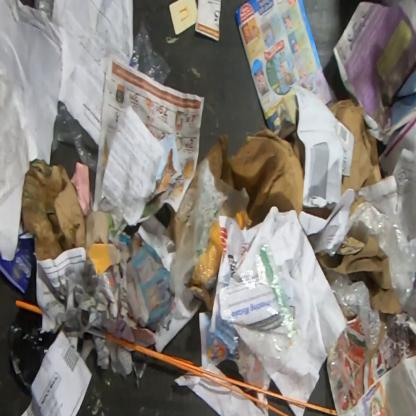cardboard: (205, 125, 305, 229), (315, 234, 402, 316), (326, 98, 382, 198)
rigid_plastic: (9, 322, 57, 396)
soft_plastic: (216, 238, 303, 388), (170, 158, 228, 289), (354, 192, 416, 307), (329, 274, 383, 350), (51, 101, 99, 175), (328, 326, 366, 416), (129, 17, 173, 87)
